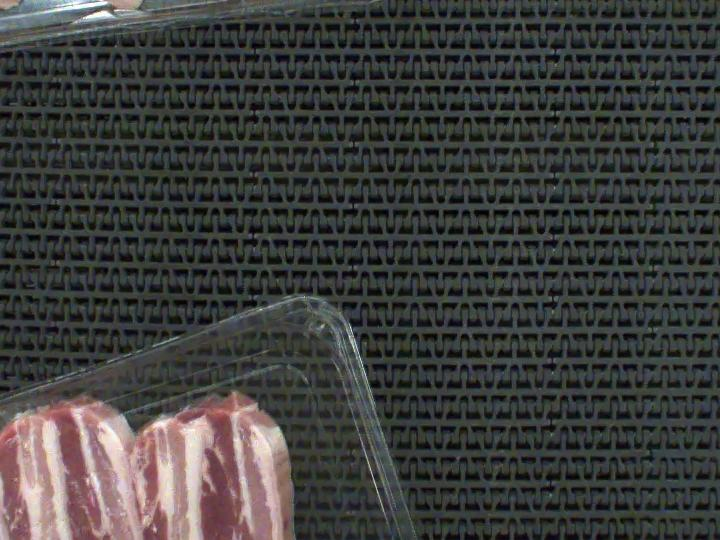packaging-error: (0, 385, 69, 480)
